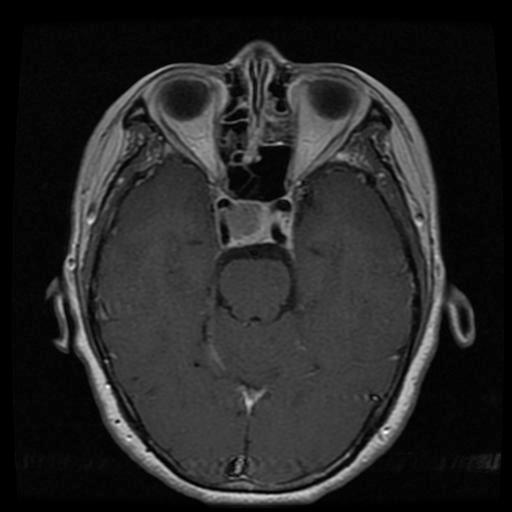Tumour-Pituitary: (213, 194, 300, 258)
